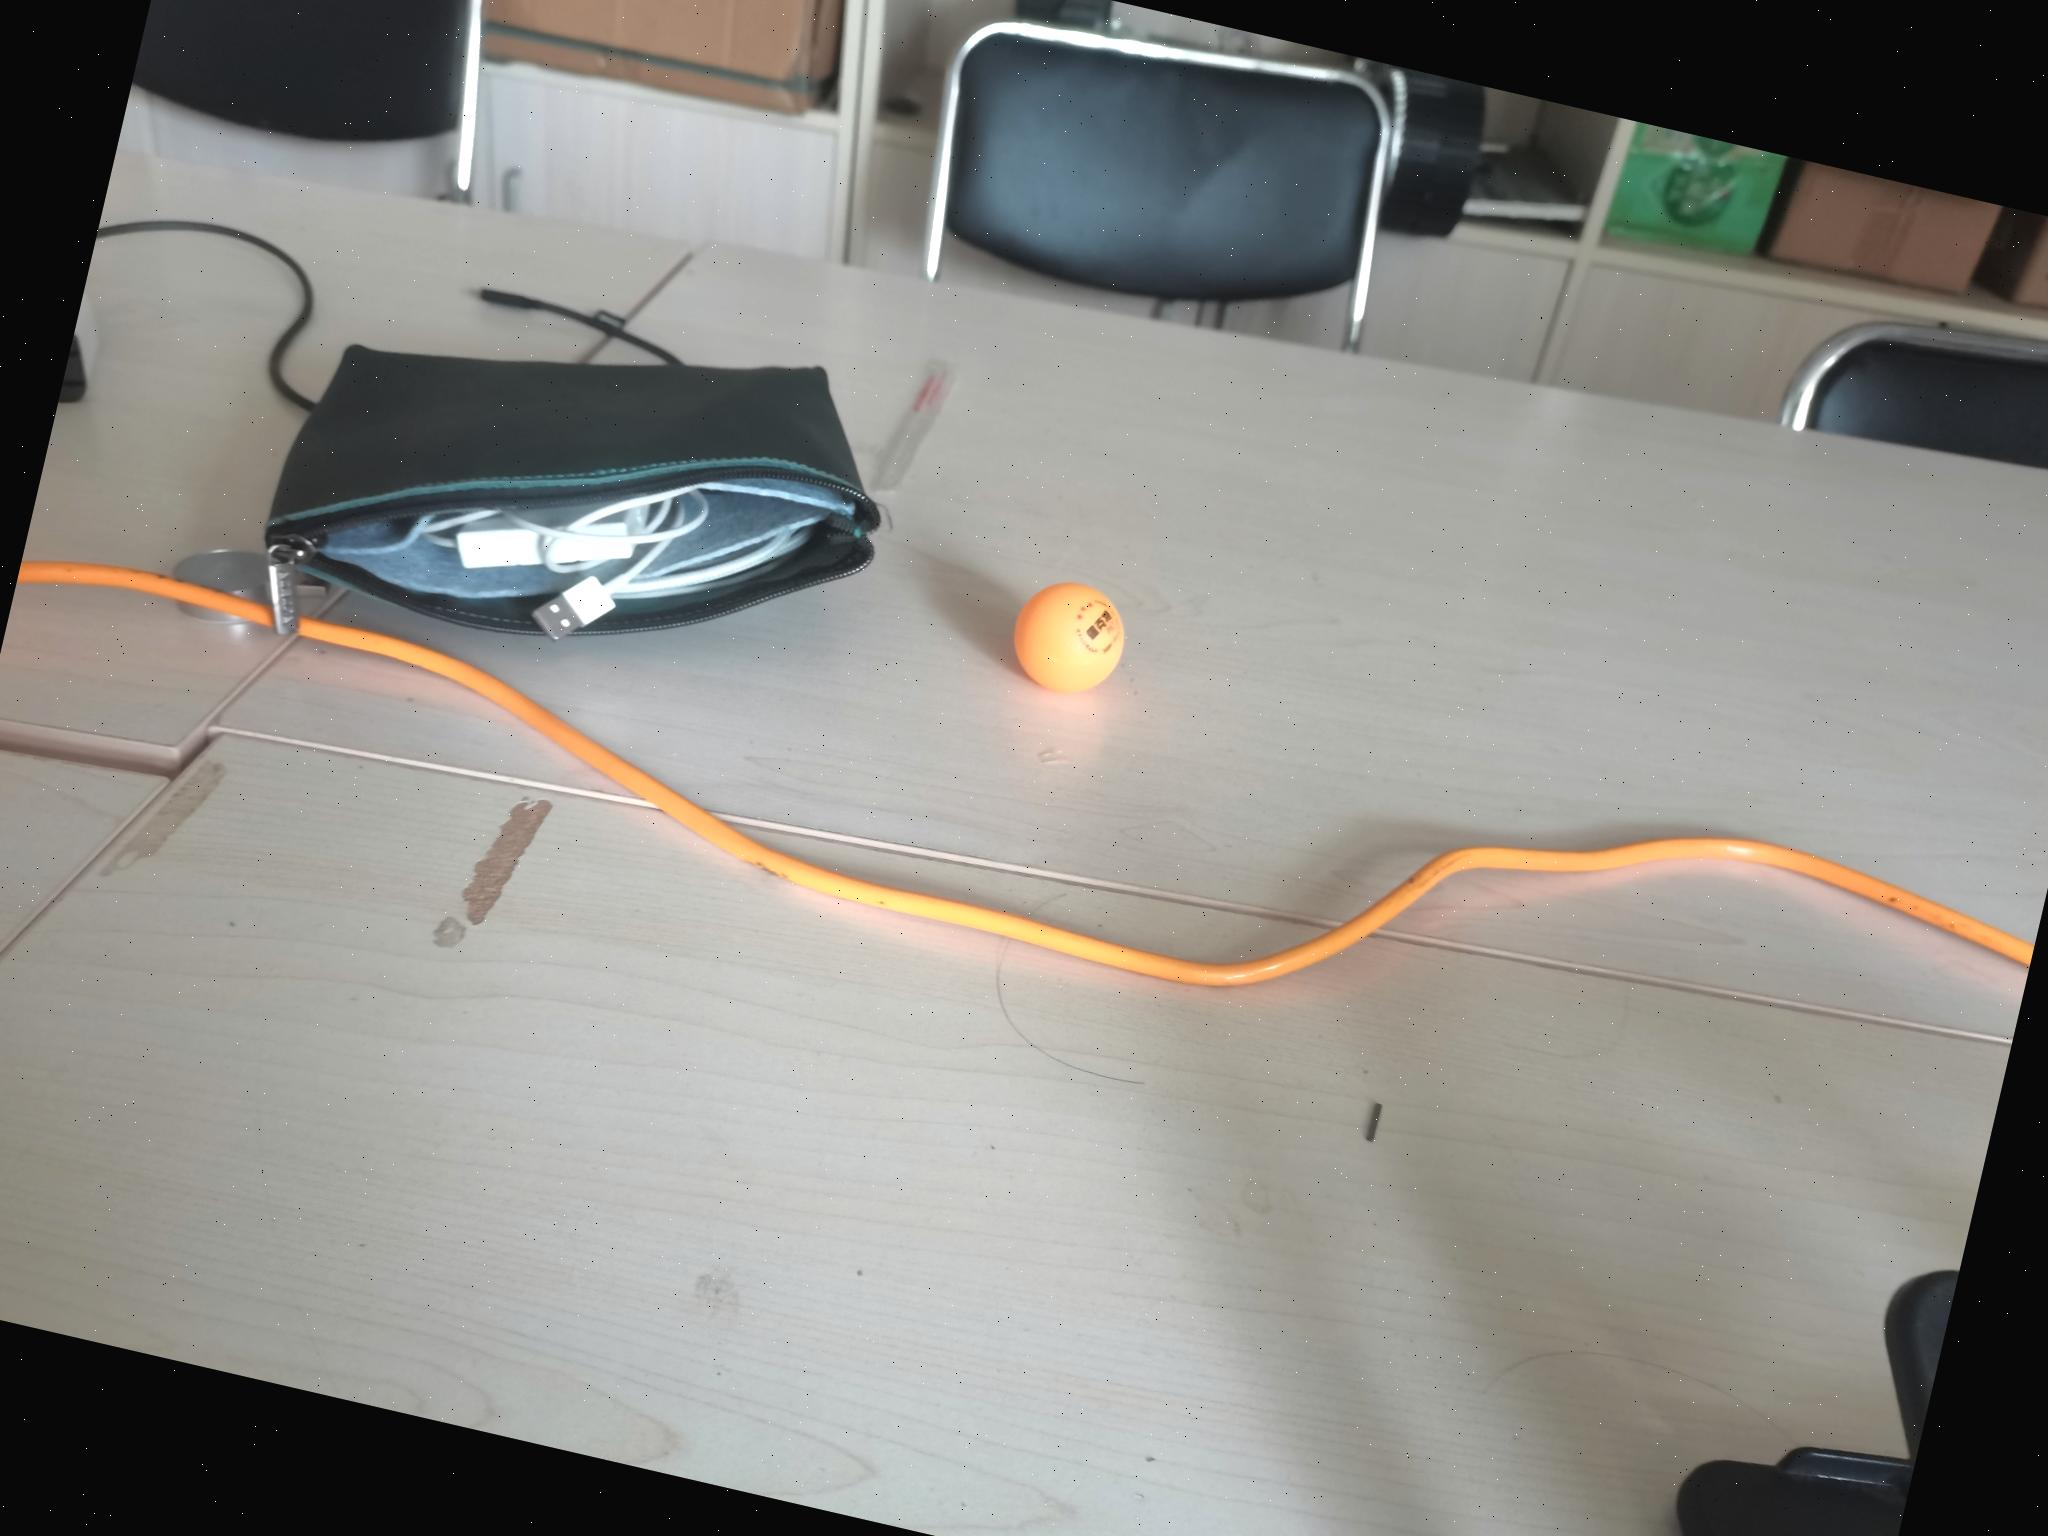ball: (1001, 568, 1137, 707)
